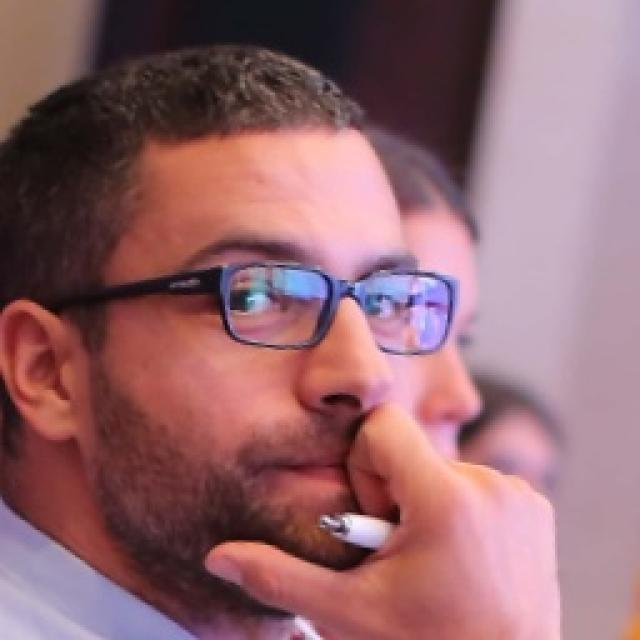glasses: (42, 247, 462, 365)
